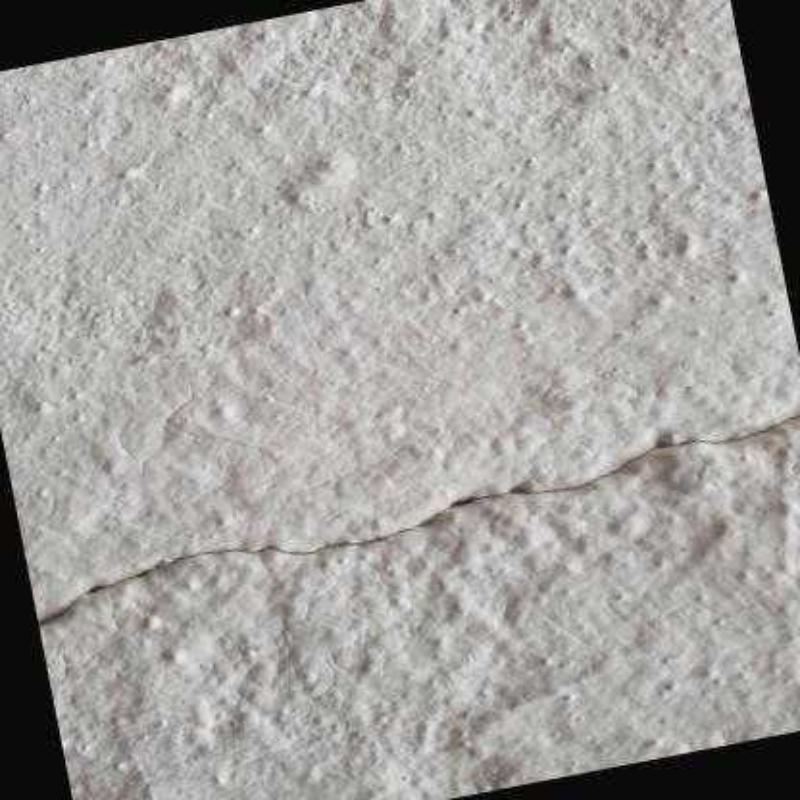crack: (38, 415, 800, 627)
